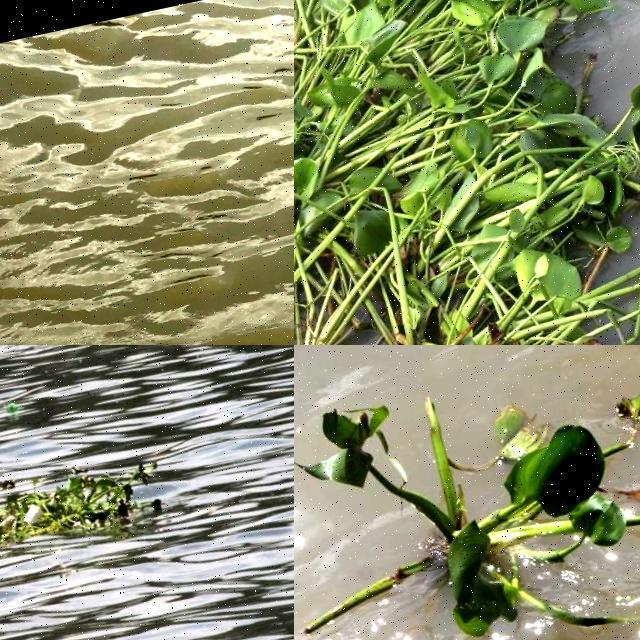water-hyacinth: (295, 1, 640, 346), (295, 346, 640, 640), (1, 448, 169, 585)
